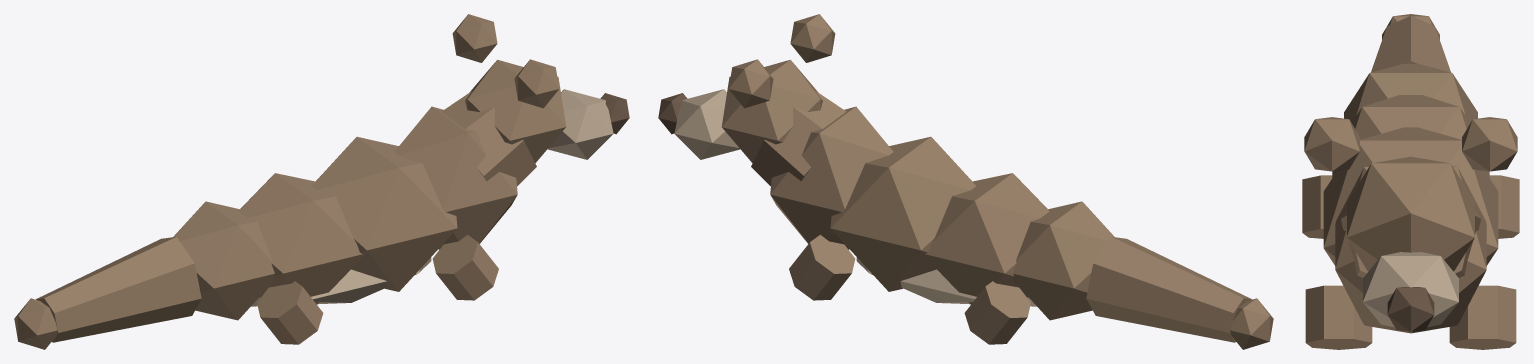
The picture shows the model from 3 angles, left to right: view 1: azimuth 30°, elevation 25°; view 2: azimuth 150°, elevation 25°; view 3: azimuth 270°, elevation 25°; orthographic projection. The views are drawn at different scales.
Visible parts, largest first — view 1: part1, part11, part2, part0, part3, part6, part5, part14, part16, part7, part9, part10 (+3 smaller); view 2: part1, part11, part2, part0, part3, part6, part5, part13, part15, part7, part10, part9 (+3 smaller); view 3: part6, part1, part7, part0, part3, part2, part13, part14, part11, part9, part10, part8 (+4 smaller).
Boxes of the visible parts, x1,y1,x2,y2 form: part1: [312, 136, 457, 291]; part11: [36, 237, 201, 342]; part2: [238, 173, 364, 304]; part0: [394, 106, 517, 249]; part3: [173, 201, 275, 320]; part6: [465, 59, 566, 162]; part5: [441, 90, 536, 186]; part14: [432, 234, 498, 300]; part16: [257, 281, 323, 344]; part7: [548, 89, 613, 159]; part9: [452, 14, 497, 62]; part10: [514, 59, 559, 108]; part1: [830, 136, 975, 291]; part11: [1086, 237, 1251, 342]; part2: [923, 173, 1049, 304]; part0: [770, 106, 893, 249]; part3: [1012, 201, 1114, 320]; part6: [721, 59, 822, 162]; part5: [751, 90, 846, 186]; part13: [789, 234, 855, 300]; part15: [964, 281, 1030, 344]; part7: [674, 89, 739, 159]; part10: [790, 14, 835, 62]; part9: [728, 59, 773, 108]; part6: [1347, 156, 1474, 271]; part1: [1323, 127, 1498, 265]; part7: [1363, 252, 1458, 327]; part0: [1335, 166, 1486, 333]; part3: [1344, 63, 1477, 122]; part2: [1332, 95, 1489, 177]; part13: [1449, 285, 1516, 349]; part14: [1305, 285, 1372, 349]; part11: [1371, 16, 1450, 72]; part9: [1462, 117, 1517, 171]; part10: [1304, 117, 1359, 171]; part8: [1387, 287, 1434, 331].
Size of the model in its own units: 5.23 by 1.8 by 1.27.
